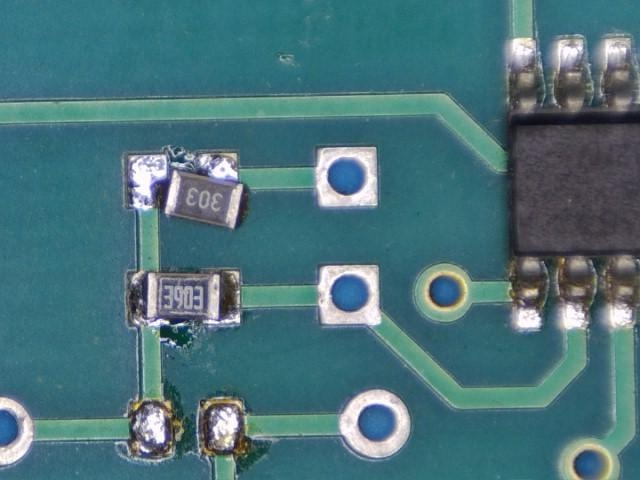pcb_defect: (125, 151, 245, 231)
